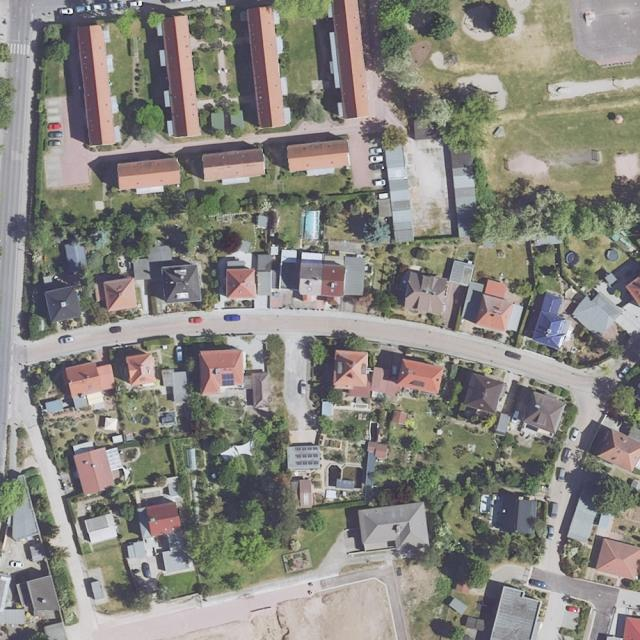PV: (294, 445, 318, 466), (220, 372, 234, 385)
